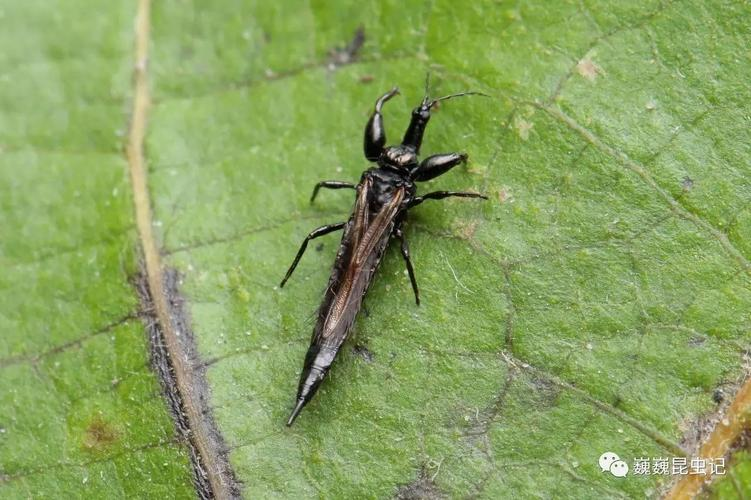Phlaeothripidae: (283, 79, 494, 432)
